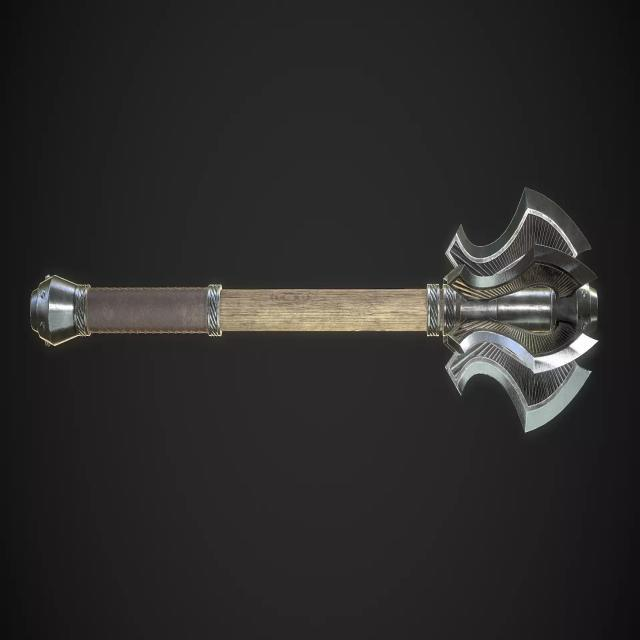mace: (29, 183, 601, 435)
